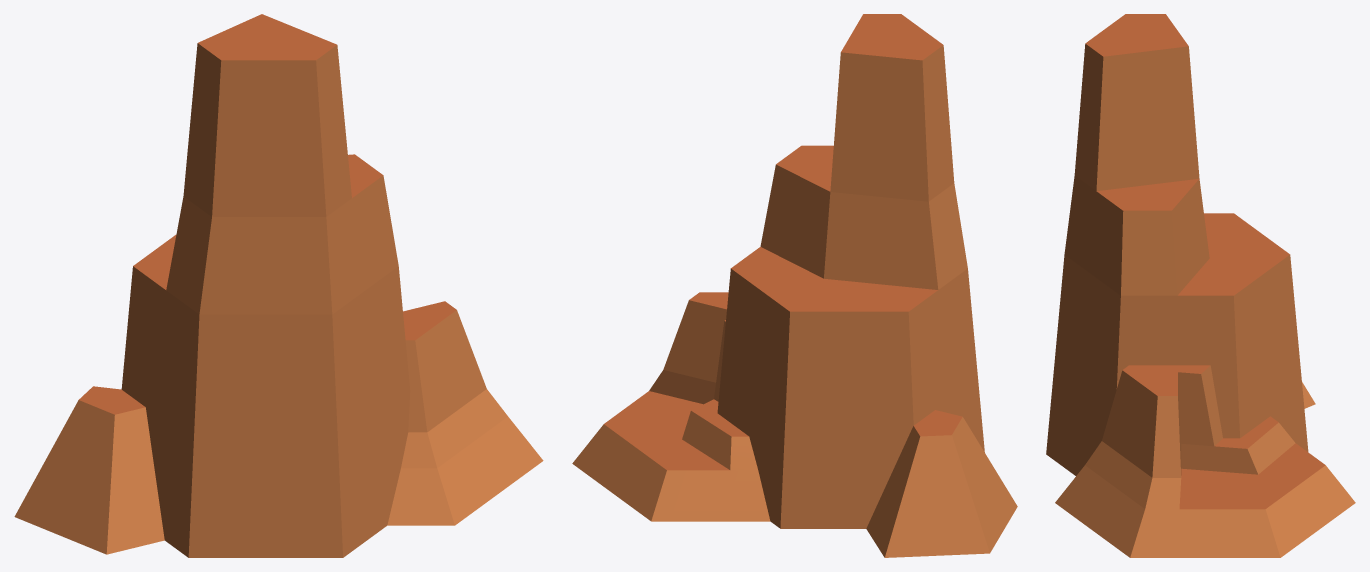
Rendered from mesa_0.fbx.
3 views of the same model, side by side, from view 1: azimuth 30°, elevation 25°; view 2: azimuth 150°, elevation 25°; view 3: azimuth 270°, elevation 25° (orthographic). The views are drawn at different scales.
Visible parts, largest first — view 1: mesa_0; view 2: mesa_0; view 3: mesa_0.
Boxes of the visible parts, <box> form: mesa_0: <box>14,14,543,557</box>; mesa_0: <box>572,14,1017,557</box>; mesa_0: <box>1046,14,1355,557</box>.
Bounding box in the file's own units: 0.9831 × 0.9959 × 0.6832.
Materials: 1 (1 with a texture image).
